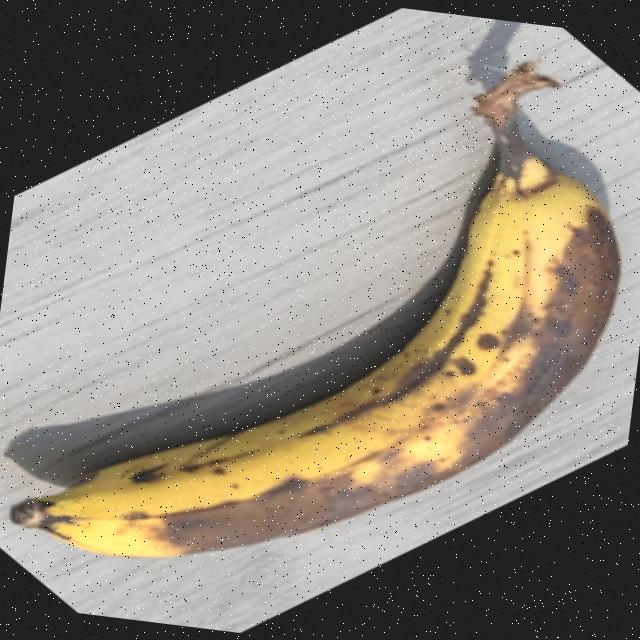overripe: (1, 36, 640, 618)
